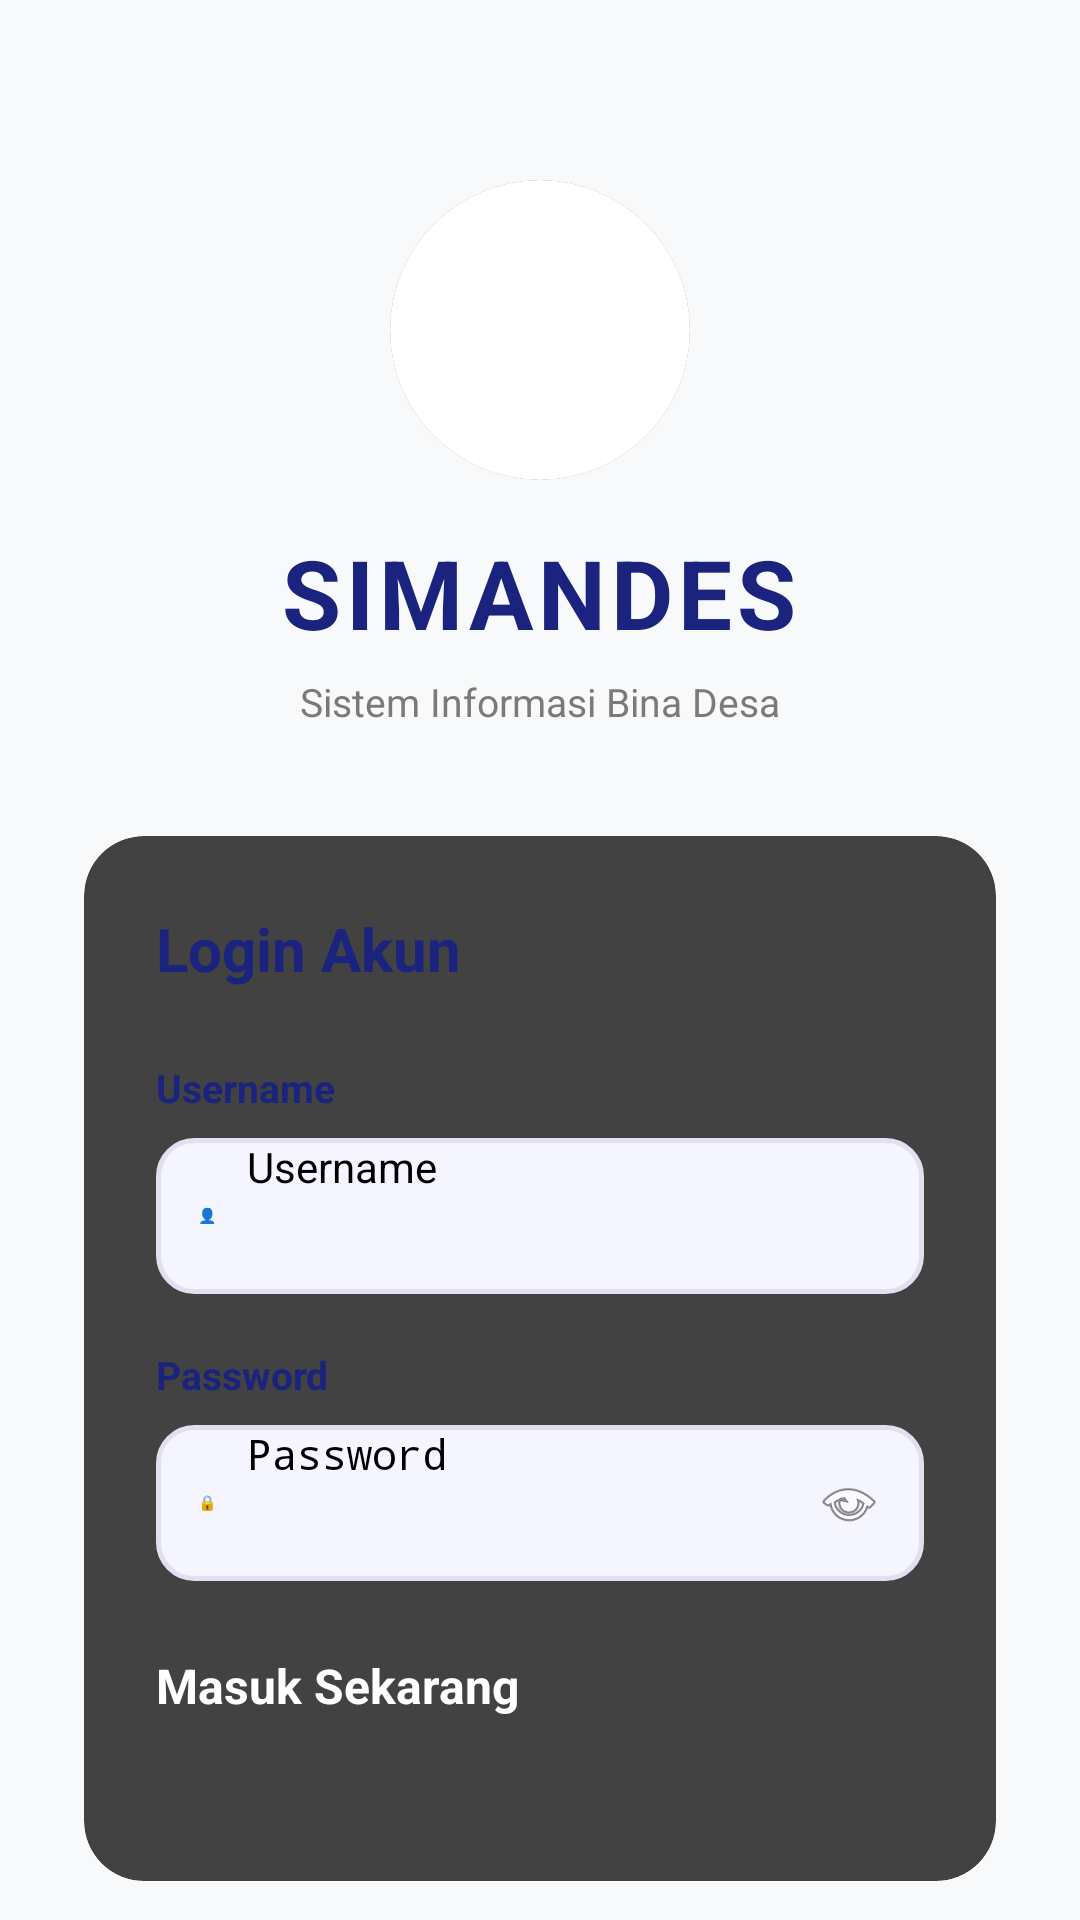

Icons on this 1080 x 1920 Android screen, each with the point to tap as (x=x, y=y):
view: (x=849, y=1505)
